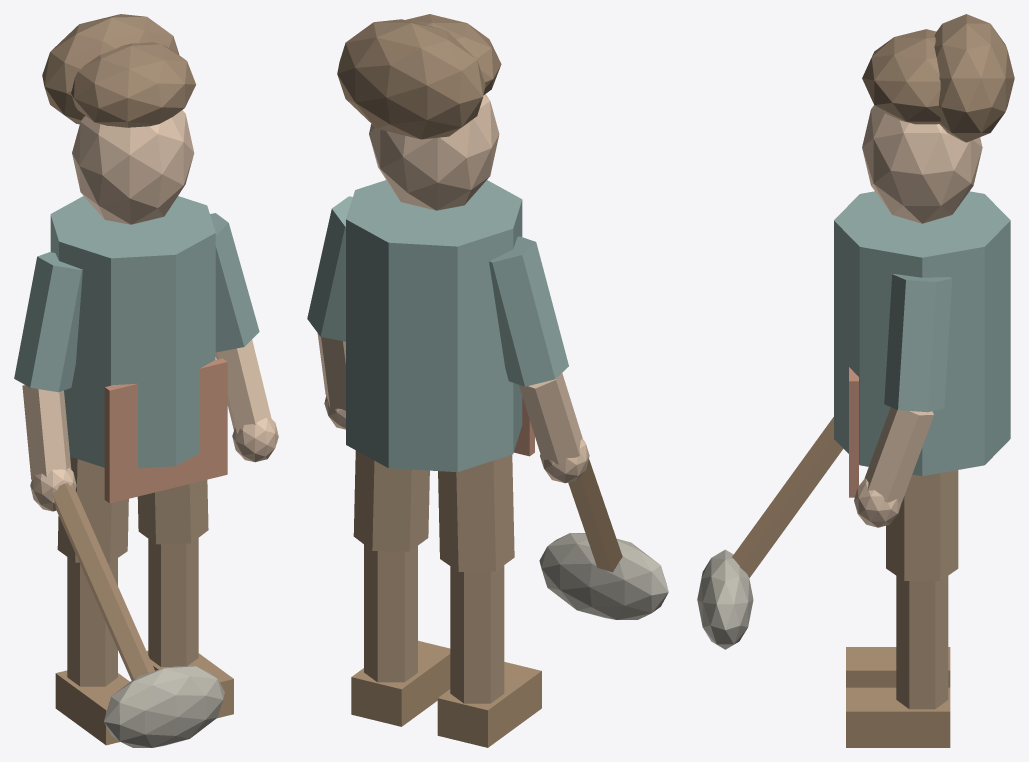
Rendered from woodcutter.glb.
The picture shows the model from 3 angles, left to right: view 1: azimuth 30°, elevation 25°; view 2: azimuth 150°, elevation 25°; view 3: azimuth 270°, elevation 25°; orthographic projection. The views are drawn at different scales.
Visible parts, largest first — view 1: part0, part1, part15, part2, part18, part6, part10, part17, part16, part4, part12, part9 (+7 smaller); view 2: part0, part16, part1, part6, part3, part18, part4, part10, part9, part5, part11, part12 (+6 smaller); view 3: part0, part1, part12, part16, part9, part10, part2, part11, part17, part18, part13, part5 (+2 smaller).
Boxes of the visible parts, x1=… form: part0: x1=50, y1=196, x2=215, y2=468; part1: x1=72, y1=110, x2=194, y2=224; part15: x1=104, y1=358, x2=227, y2=503; part2: x1=71, y1=42, x2=196, y2=127; part18: x1=104, y1=666, x2=224, y2=747; part6: x1=14, y1=252, x2=82, y2=392; part10: x1=148, y1=538, x2=198, y2=666; part17: x1=52, y1=483, x2=154, y2=680; part16: x1=42, y1=14, x2=179, y2=124; part4: x1=67, y1=557, x2=117, y2=686; part12: x1=210, y1=213, x2=259, y2=352; part9: x1=137, y1=480, x2=208, y2=544; part0: x1=346, y1=180, x2=522, y2=472; part16: x1=337, y1=19, x2=485, y2=139; part1: x1=369, y1=94, x2=499, y2=210; part6: x1=489, y1=236, x2=568, y2=386; part3: x1=438, y1=454, x2=514, y2=571; part18: x1=539, y1=533, x2=668, y2=619; part4: x1=450, y1=565, x2=504, y2=703; part10: x1=364, y1=544, x2=417, y2=682; part9: x1=353, y1=450, x2=429, y2=551; part5: x1=437, y1=662, x2=541, y2=747; part11: x1=351, y1=640, x2=450, y2=726; part12: x1=307, y1=196, x2=352, y2=341; part0: x1=834, y1=191, x2=1010, y2=476; part1: x1=862, y1=105, x2=982, y2=223; part12: x1=884, y1=274, x2=952, y2=412; part16: x1=934, y1=14, x2=1014, y2=142; part9: x1=886, y1=470, x2=958, y2=580; part10: x1=896, y1=576, x2=948, y2=709; part2: x1=862, y1=29, x2=940, y2=124; part11: x1=846, y1=687, x2=950, y2=747; part17: x1=732, y1=417, x2=843, y2=577; part18: x1=697, y1=549, x2=753, y2=649; part13: x1=864, y1=407, x2=933, y2=502; part5: x1=846, y1=647, x2=950, y2=687.
Bounding box in the file's own units: 0.73 × 1.9 × 0.79.
